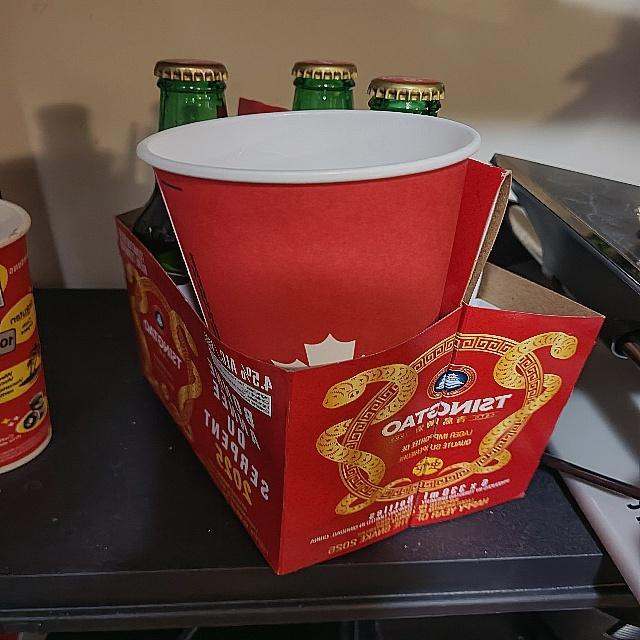timmies: (132, 103, 489, 371)
